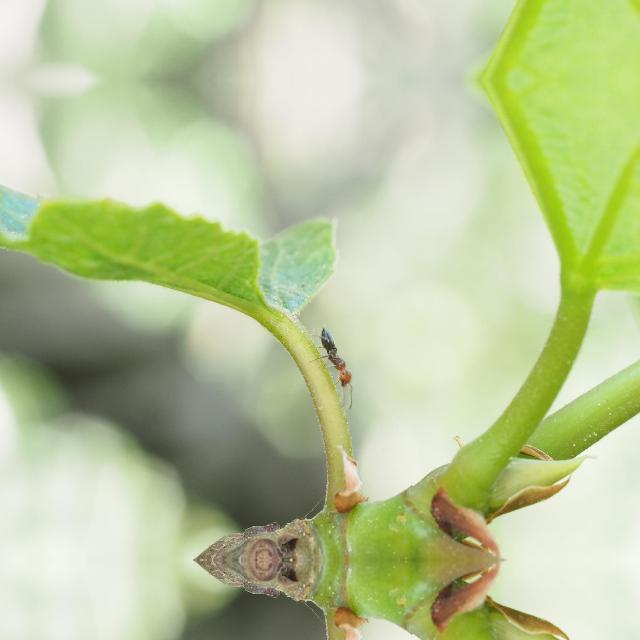Crematogaster: (314, 320, 360, 394)
